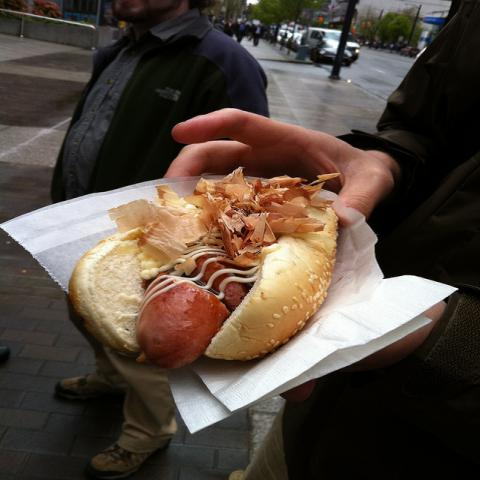car: (305, 26, 361, 56), (310, 39, 359, 67), (399, 46, 421, 58), (275, 29, 292, 44), (292, 25, 308, 40), (291, 34, 303, 52), (372, 38, 384, 48), (286, 21, 296, 27)
